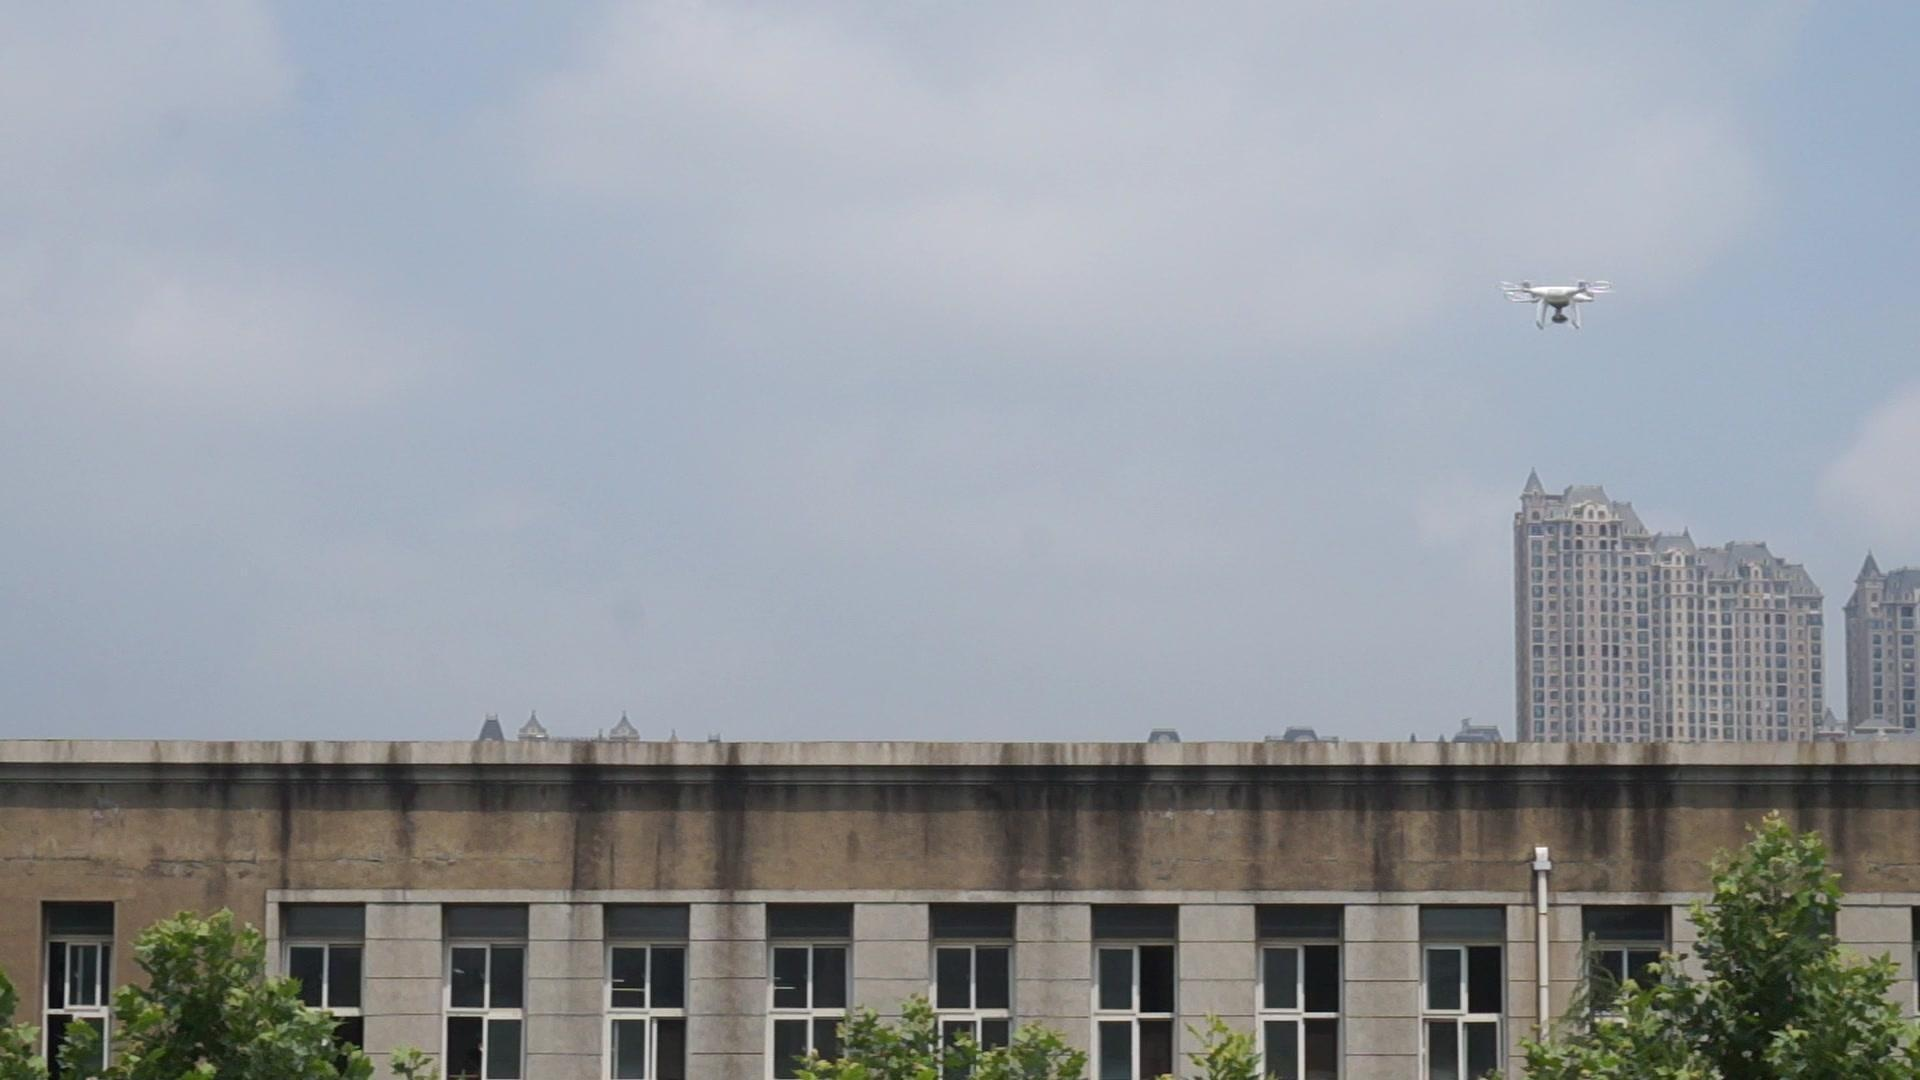UAV: (1497, 280, 1615, 331)
